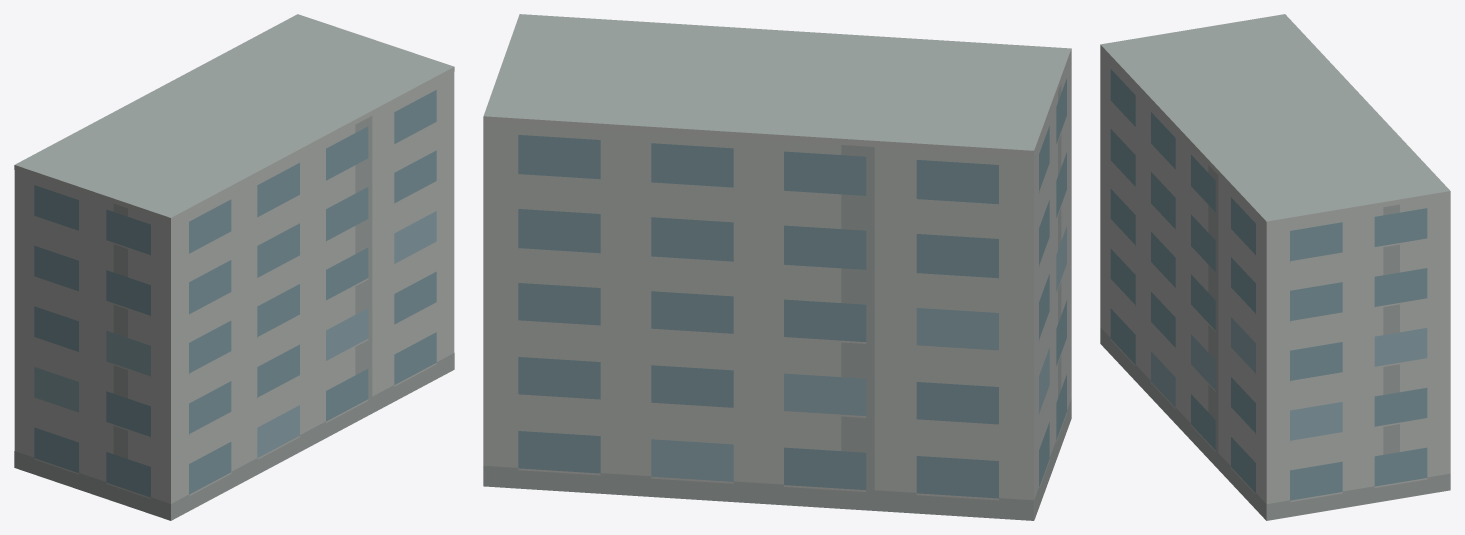
The model's file is survey-upis-32849057.glb.
3 renders of one model, left to right at view 1: azimuth 30°, elevation 25°; view 2: azimuth 150°, elevation 25°; view 3: azimuth 270°, elevation 25°, orthographic. The views are drawn at different scales.
Parts seen in each view (by area): view 1: survey-upis-32849057.tmp; view 2: survey-upis-32849057.tmp; view 3: survey-upis-32849057.tmp.
Part boxes in pixels (left/top/right/bottom): survey-upis-32849057.tmp: left=14, top=14, right=454, bottom=520; survey-upis-32849057.tmp: left=483, top=14, right=1071, bottom=520; survey-upis-32849057.tmp: left=1100, top=14, right=1450, bottom=520.
Bounding box in the file's own units: 21.58 × 14.5 × 15.39.
